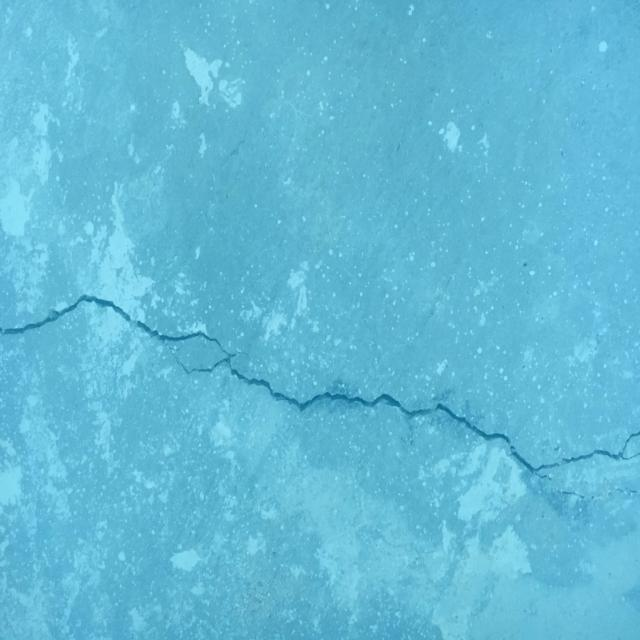crack: (0, 293, 640, 481), (556, 490, 584, 498), (617, 488, 636, 492)
